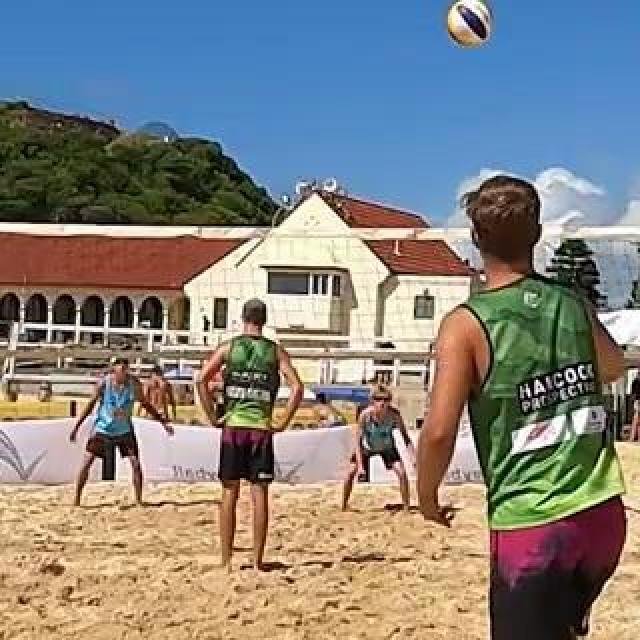volleyball: (446, 0, 492, 46)
